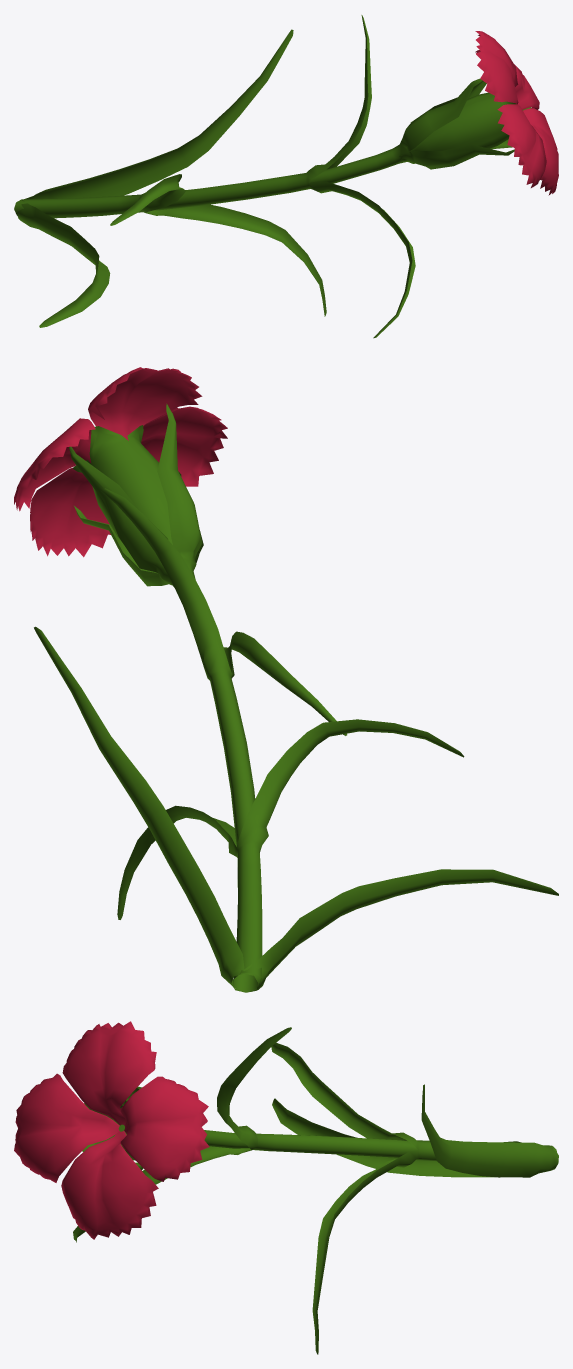
The model's file is GEO-peacock_eye_flower_body_000.obj.
The picture shows the model from 3 angles, top to bottom: view 1: azimuth 30°, elevation 25°; view 2: azimuth 150°, elevation 25°; view 3: azimuth 270°, elevation 25°; orthographic projection. The views are drawn at different scales.
Visible parts, largest first — view 1: GEO-peacock_eye.flower_body.000; view 2: GEO-peacock_eye.flower_body.000; view 3: GEO-peacock_eye.flower_body.000.
Part boxes in pixels (left/top/right/bottom): GEO-peacock_eye.flower_body.000: left=14, top=15, right=558, bottom=338; GEO-peacock_eye.flower_body.000: left=14, top=367, right=558, bottom=992; GEO-peacock_eye.flower_body.000: left=14, top=1021, right=558, bottom=1354.
Bounding box in the file's own units: 0.0933 × 0.0658 × 0.0878.
